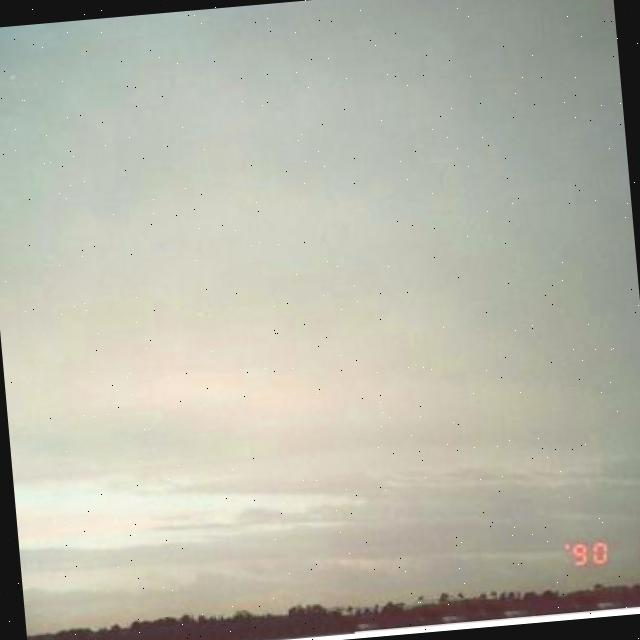Ns: (1, 96, 640, 545)
